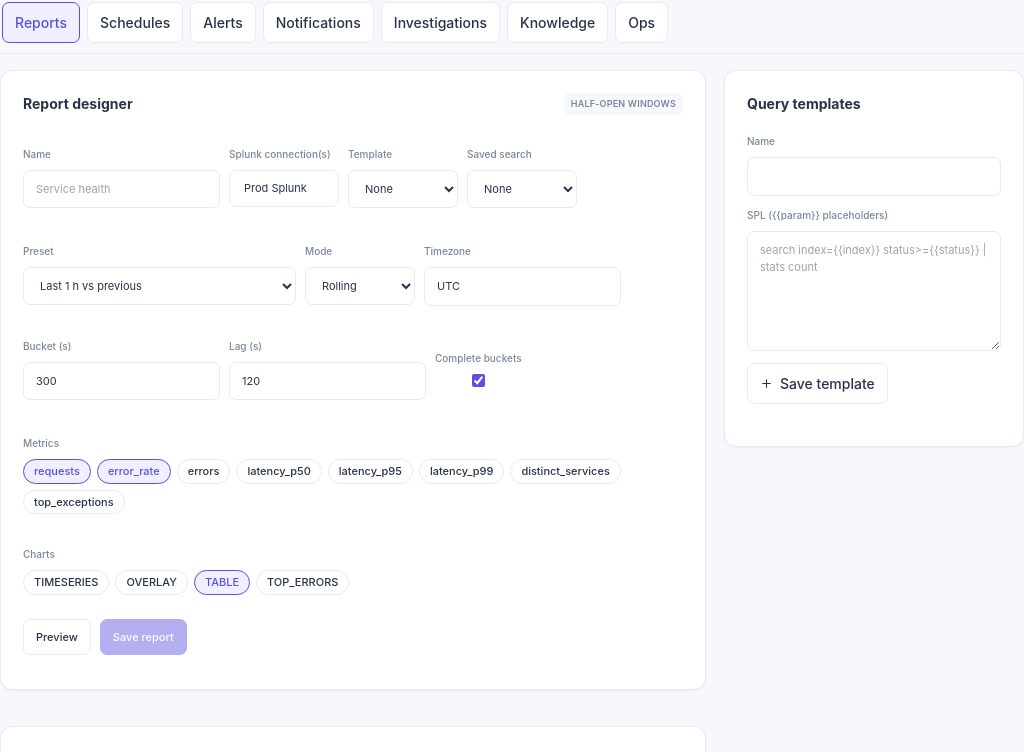
Scenario: Monitoring › runs an alert rule backtest against stored snapshots
Click the tab "Alerts": (223, 22) [190, 2, 256, 43]
(page scrolled)
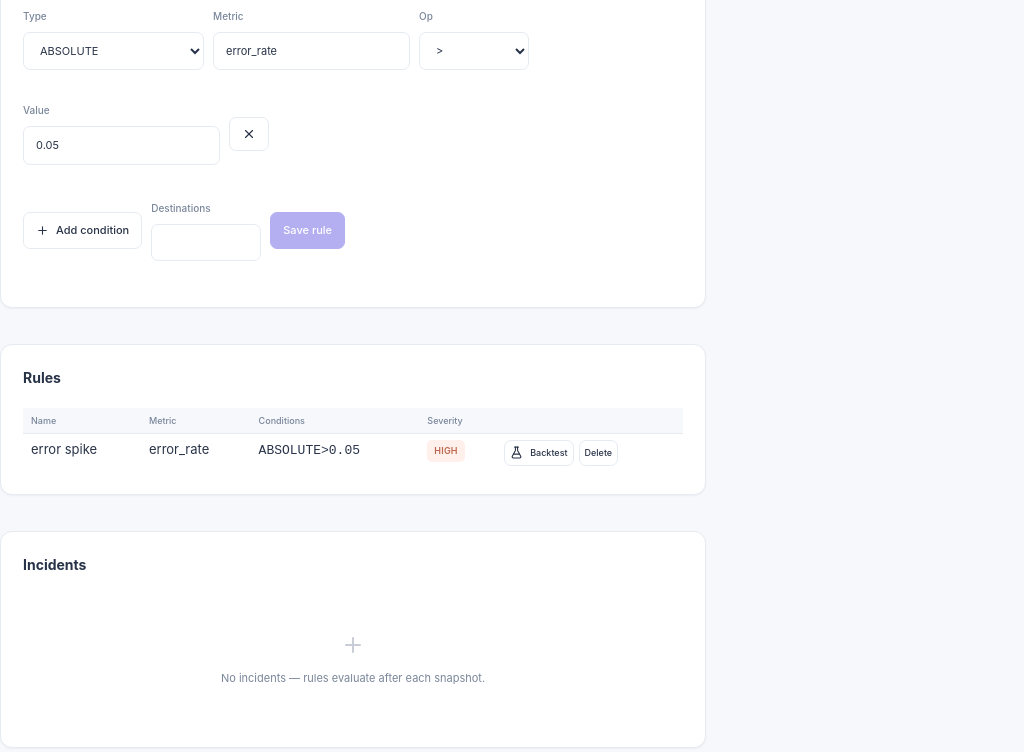
Click the button "Backtest": (539, 453) [504, 440, 574, 466]
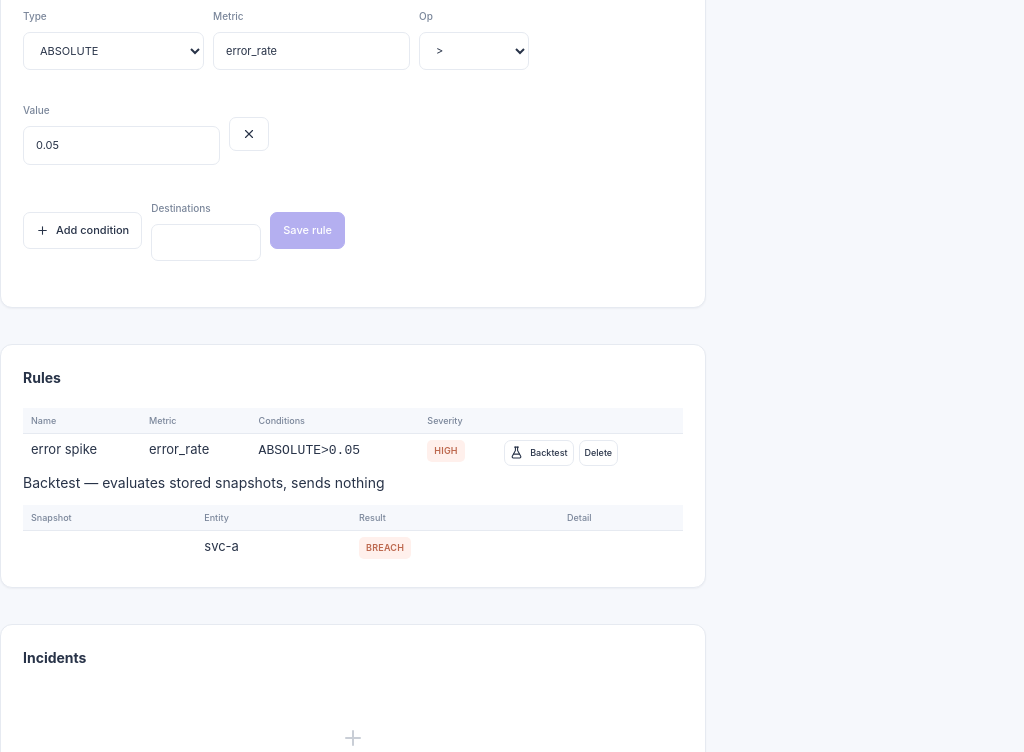
Expected: the text "BREACH" is shown, [359, 537, 411, 558]
